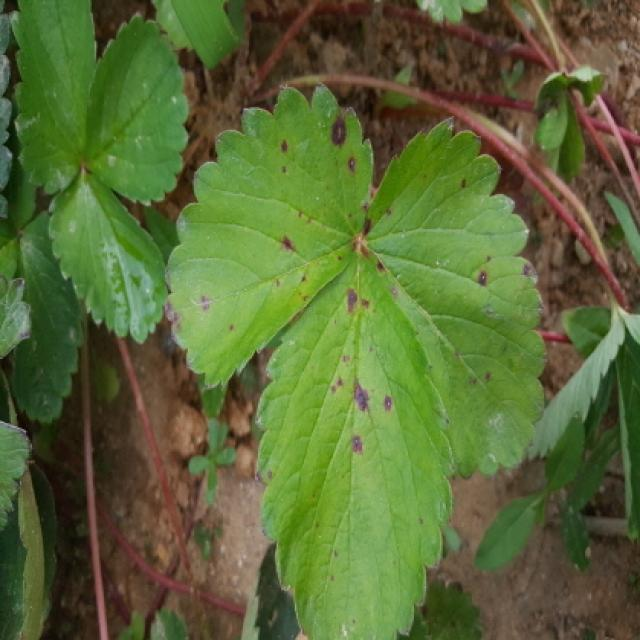Leaf Spot: (253, 244, 456, 638), (365, 116, 549, 481), (162, 80, 373, 393)
